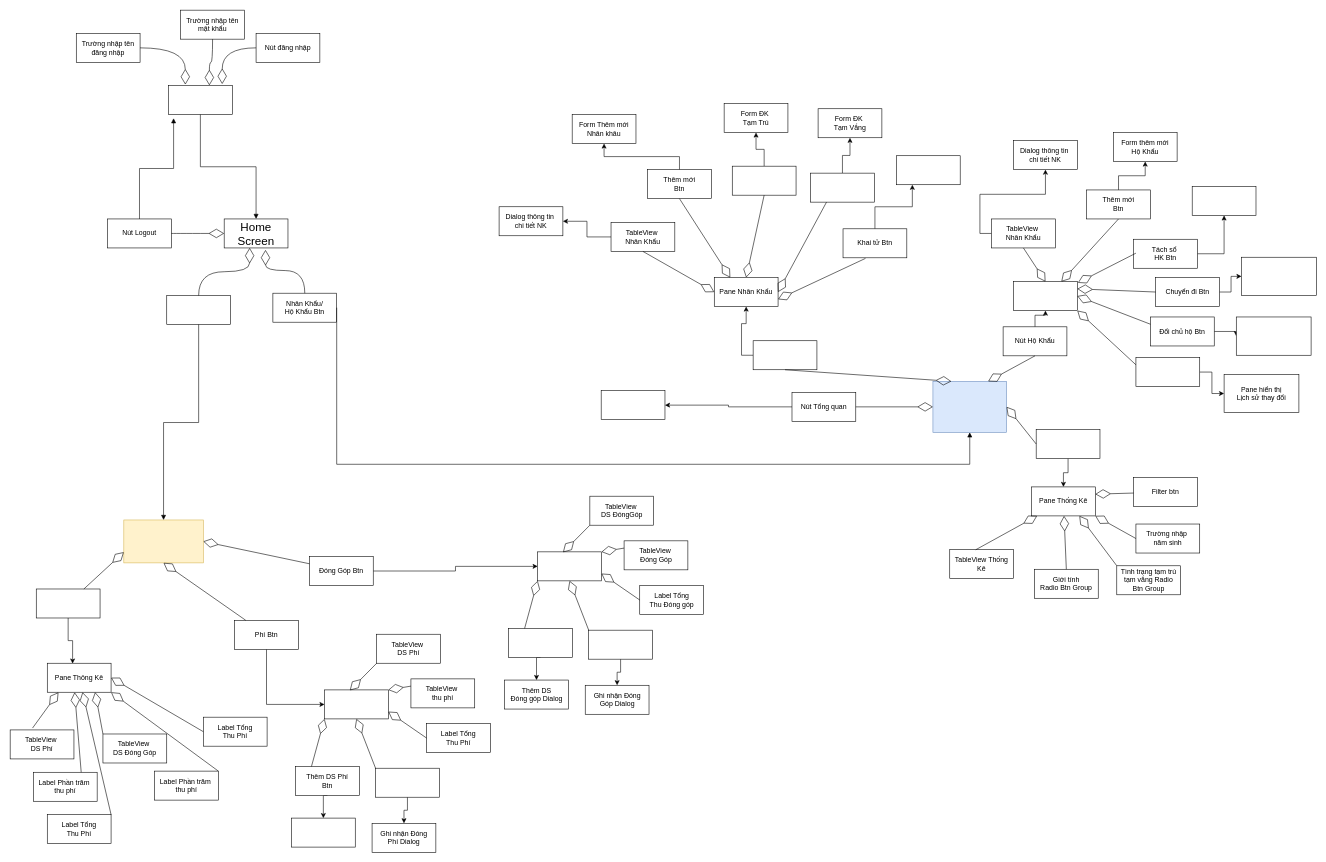
Image size: 1326x862. Some labels were removed from this diagram. The shapes that lost their labels are listed below. From the top down, each one's box as (x1, y1, x2, y2) in pixels, then its label:
(168, 85, 232, 115): Màn hình đăng nhập
(732, 166, 796, 195): ĐK tạm trú Btn
(810, 173, 874, 202): ĐK tạm vắng Btn
(896, 155, 960, 185): Form Khai Tử
(1192, 186, 1256, 215): Form tách Sổ Hộ Khẩu
(1013, 281, 1077, 311): Pane Hộ Khẩu
(1241, 257, 1316, 296): Dialog chuyển Hộ Khẩu đi nơi khác
(166, 295, 231, 325): Thu Phí/ Đóng Góp Btn
(753, 340, 817, 370): Nút Nhân Khẩu
(1236, 316, 1311, 355): Form đổi Chủ hộ
(1135, 357, 1200, 387): Lịch Sử Thay đổi Btn
(601, 390, 665, 420): Pane Tổng quan
(932, 381, 1007, 432): Màn hình chức năng UC1
(1036, 429, 1100, 458): Nút Thống Kê
(123, 519, 203, 563): Màn hình chức năng UC2
(537, 551, 601, 581): Pane Đóng Góp
(36, 588, 100, 618): Thống Kê Btn
(508, 628, 572, 657): Thêm DS Đóng Góp Btn
(588, 630, 652, 659): Ghi nhận Đóng Góp Btn
(324, 689, 388, 719): Pane Phí
(375, 768, 439, 797): Ghi nhận Đóng Phí Btn
(291, 818, 355, 847): Thêm DS Phí Dialog
